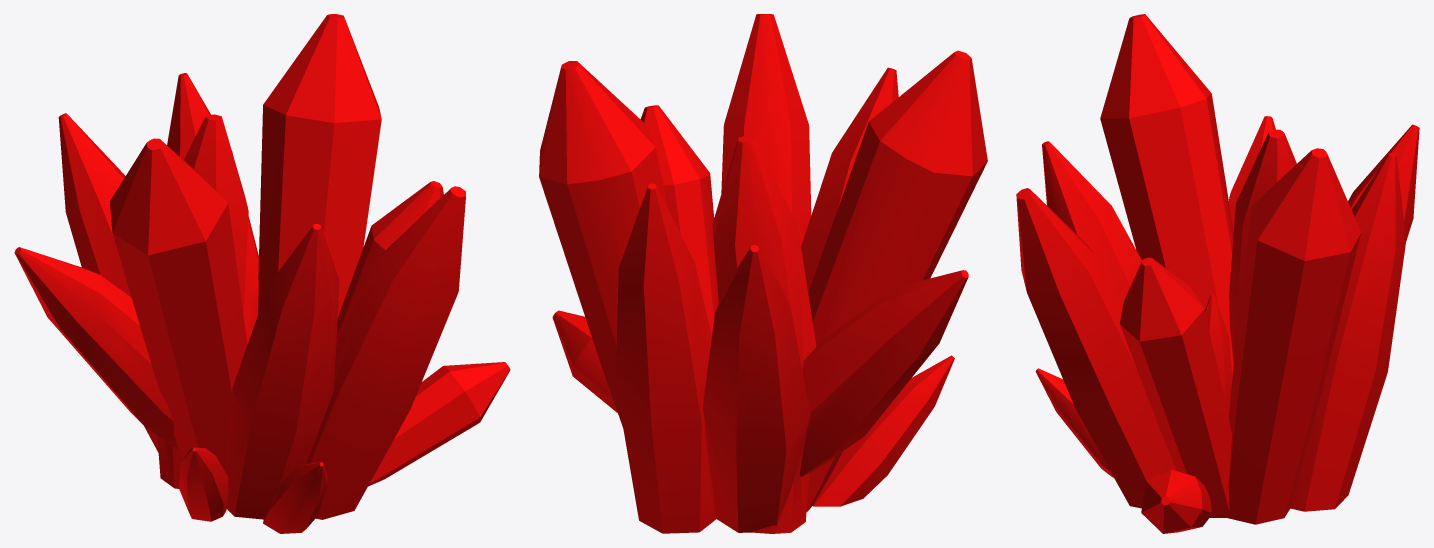
The model's file is Prop_Crystal_Red_01.fbx.
3 views of the same model, side by side, from view 1: azimuth 30°, elevation 25°; view 2: azimuth 150°, elevation 25°; view 3: azimuth 270°, elevation 25° (orthographic). The views are drawn at different scales.
Parts seen in each view (by area): view 1: Prop_Crystal_Red_01; view 2: Prop_Crystal_Red_01; view 3: Prop_Crystal_Red_01.
Part boxes in pixels (x1,y1,x2,y2): Prop_Crystal_Red_01: (14,14,510,533); Prop_Crystal_Red_01: (539,14,987,533); Prop_Crystal_Red_01: (1016,14,1419,533).
Size of the model in its own units: 49.76 by 44.62 by 40.72.
